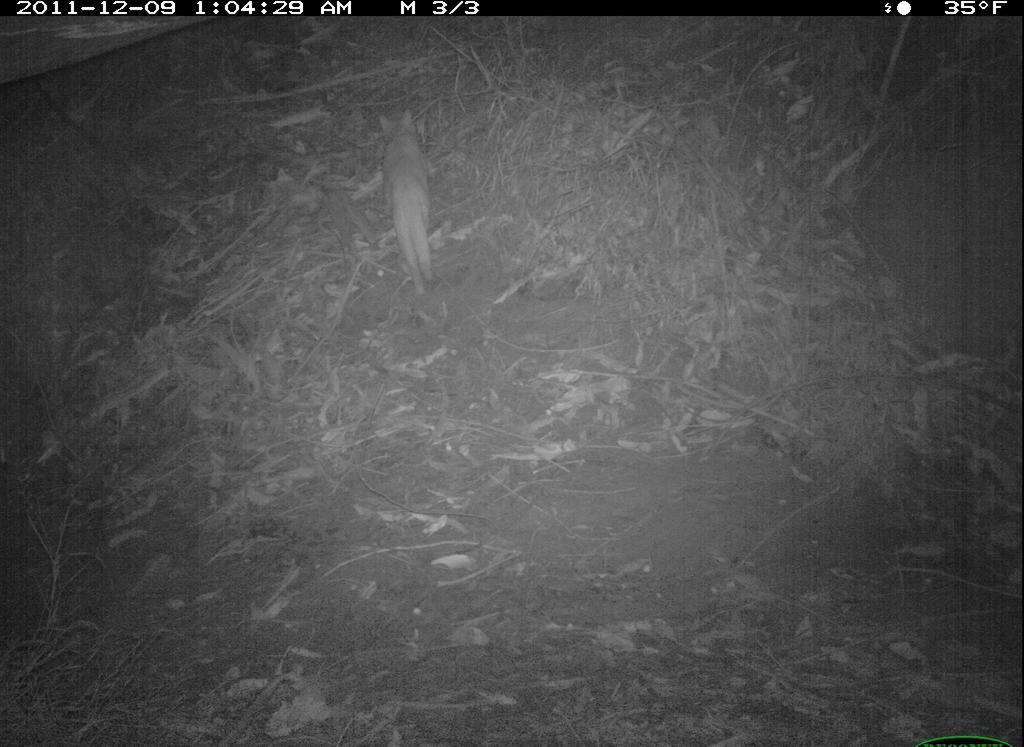dog: (356, 93, 487, 327)
